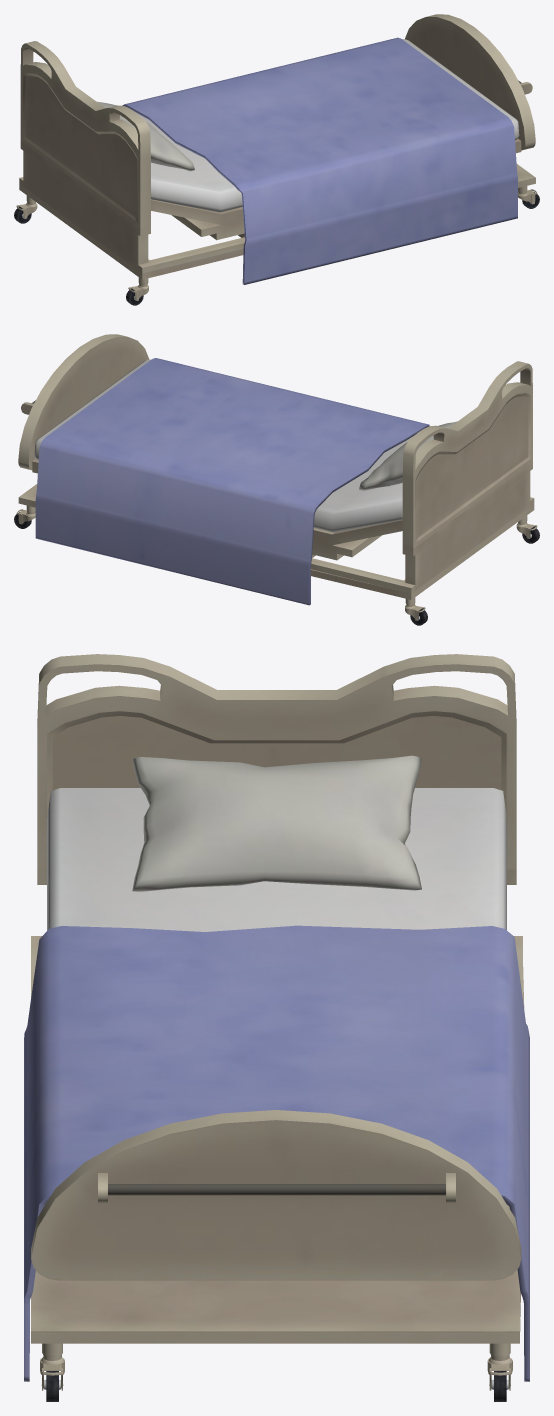
Rendered from hospitalbed.glb.
3 renders of one model, top to bottom at view 1: azimuth 30°, elevation 25°; view 2: azimuth 150°, elevation 25°; view 3: azimuth 270°, elevation 25°, orthographic. The views are drawn at different scales.
Parts seen in each view (by area): view 1: Bed-material; view 2: Bed-material; view 3: Bed-material.
Part boxes in pixels (<box>): Bed-material: <box>14,14,539,305</box>; Bed-material: <box>14,334,539,625</box>; Bed-material: <box>24,654,529,1401</box>.
Size of the model in its own units: 0.4379 by 0.1821 by 0.2305.
1 material, 1 textured.
